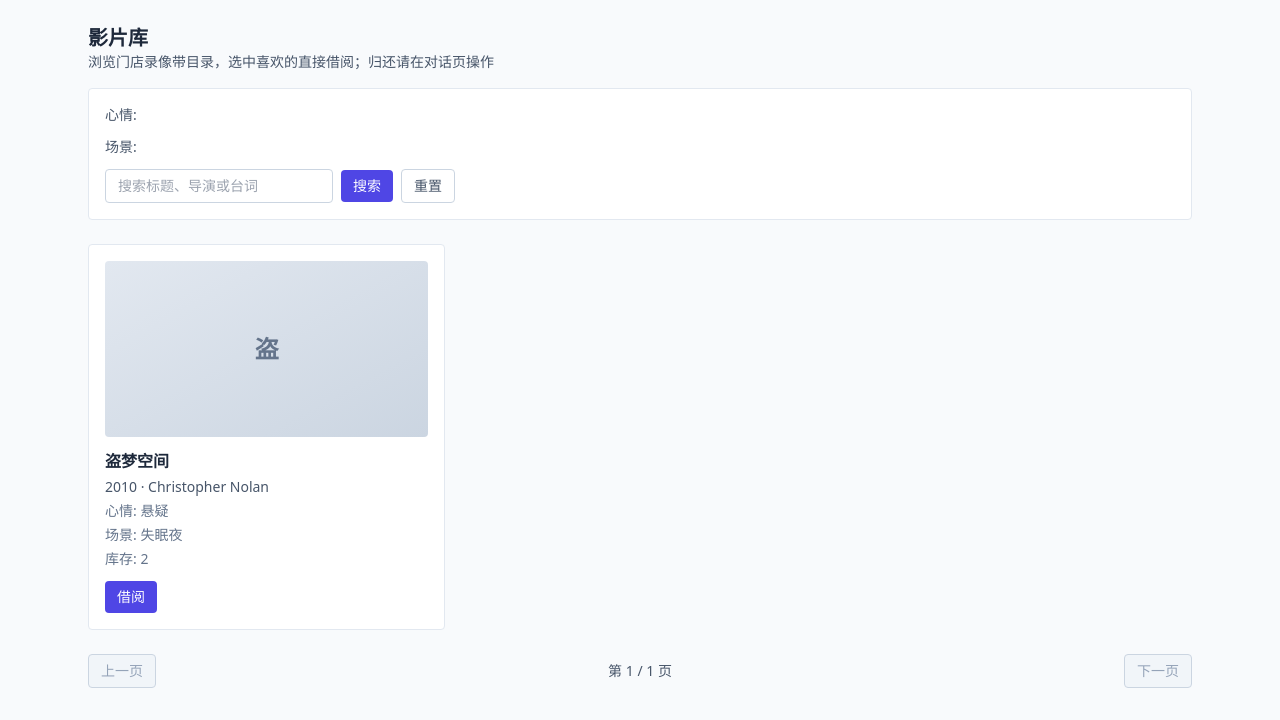
Test: MovieLibraryPage › opens the movie detail when a card is clicked and closes it with Escape
expect the heading "盗梦空间" is shown: met, box [105, 450, 169, 472]
Click the button with aria-label "查看《盗梦空间》详情" at (267, 415), box [105, 261, 428, 569]
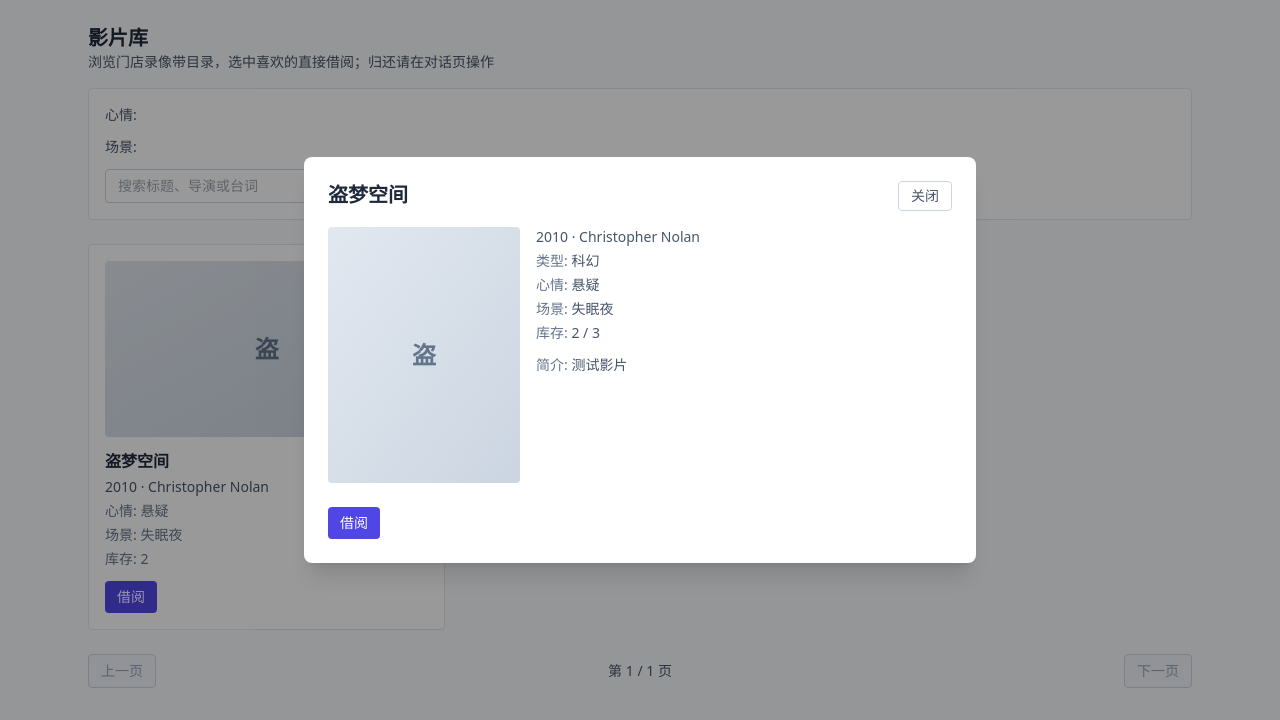
expect the text "测试影片" is shown: met, box [571, 355, 627, 374]
Press Escape
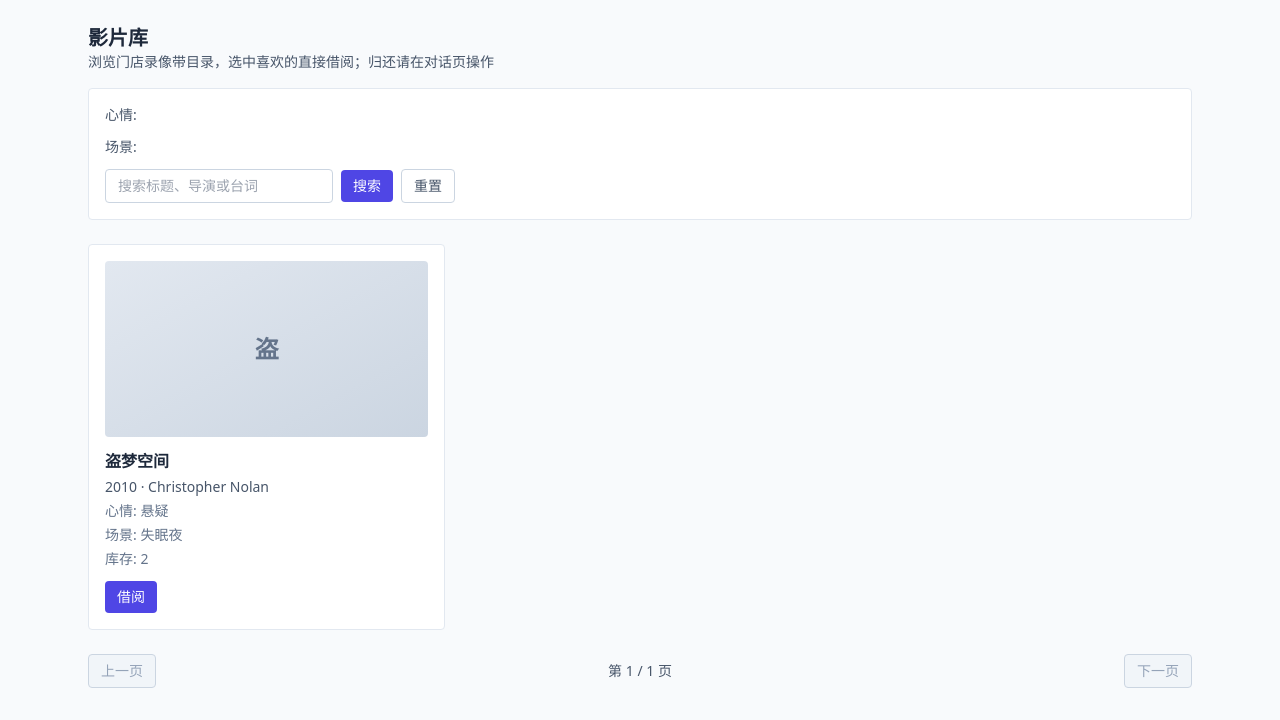
expect the dialog is gone: met
